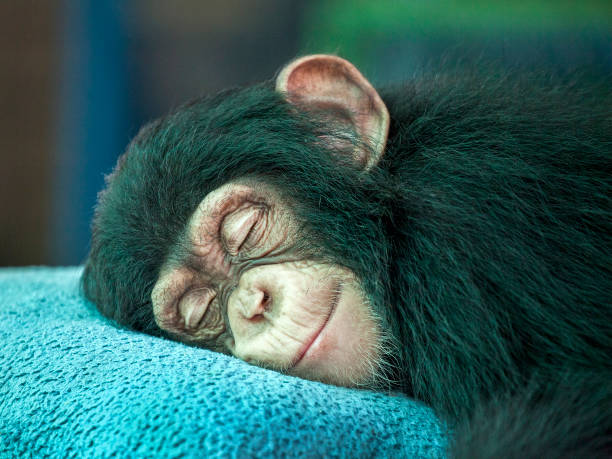chimpanzee: (61, 46, 531, 396)
